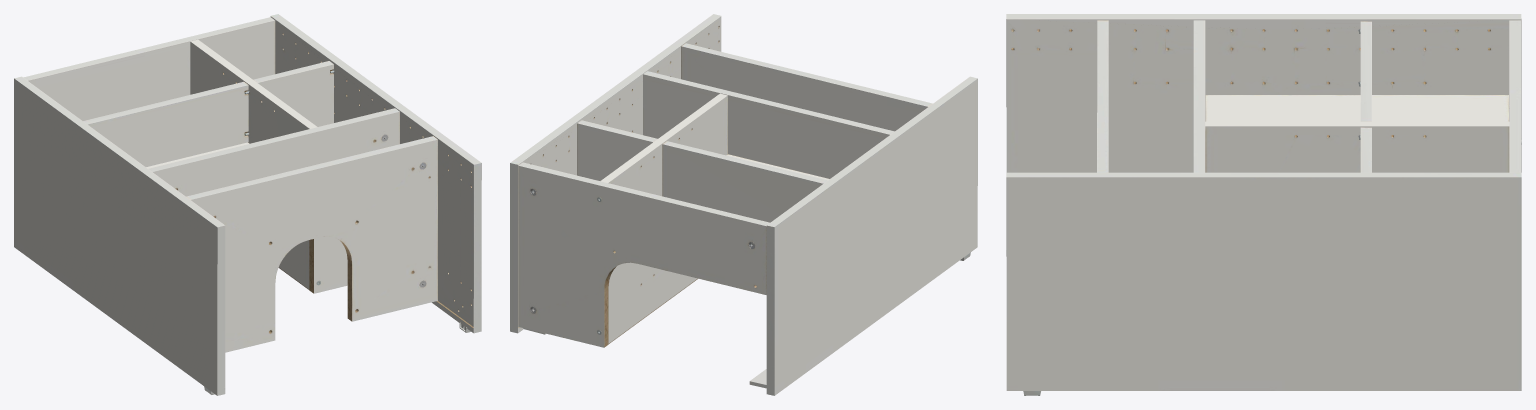
File: metod_szafka_wiszaca_na_wbudowany_okap_30547640.glb
3 renders of one model, left to right at view 1: azimuth 30°, elevation 25°; view 2: azimuth 150°, elevation 25°; view 3: azimuth 270°, elevation 25°, orthographic. The views are drawn at different scales.
Parts seen in each view (by area): view 1: metod_szafka_wiszaca_na_wbudowany_okap_30547640; view 2: metod_szafka_wiszaca_na_wbudowany_okap_30547640; view 3: metod_szafka_wiszaca_na_wbudowany_okap_30547640.
Part boxes in pixels (bbox=[...]): metod_szafka_wiszaca_na_wbudowany_okap_30547640: bbox=[14, 14, 481, 395]; metod_szafka_wiszaca_na_wbudowany_okap_30547640: bbox=[510, 14, 977, 395]; metod_szafka_wiszaca_na_wbudowany_okap_30547640: bbox=[1006, 14, 1521, 395].
Size of the model in its own units: 0.6 by 0.3761 by 0.8002.
Materials: 1 (1 with a texture image).
